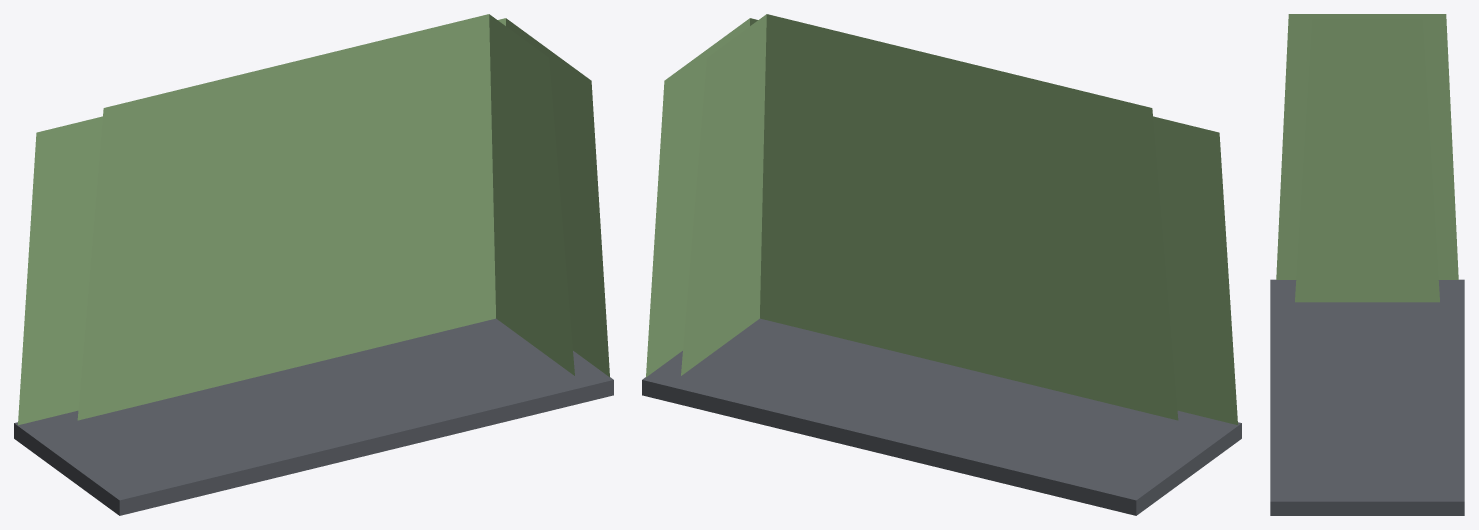
Rendered from packed.glb.
3 renders of one model, left to right at view 1: azimuth 30°, elevation 25°; view 2: azimuth 150°, elevation 25°; view 3: azimuth 270°, elevation 25°, orthographic. The views are drawn at different scales.
Parts seen in each view (by area): view 1: hedge-section-grass, hedge-section-charcoal; view 2: hedge-section-grass, hedge-section-charcoal; view 3: hedge-section-grass, hedge-section-charcoal.
Boxes of the visible parts, bbox=[...] form: hedge-section-grass: bbox=[18, 14, 609, 425]; hedge-section-charcoal: bbox=[14, 318, 613, 515]; hedge-section-grass: bbox=[646, 14, 1237, 425]; hedge-section-charcoal: bbox=[642, 318, 1241, 515]; hedge-section-grass: bbox=[1276, 14, 1458, 302]; hedge-section-charcoal: bbox=[1270, 279, 1464, 515].
Bounding box in the file's own units: 2 × 1.28 × 0.7401.
